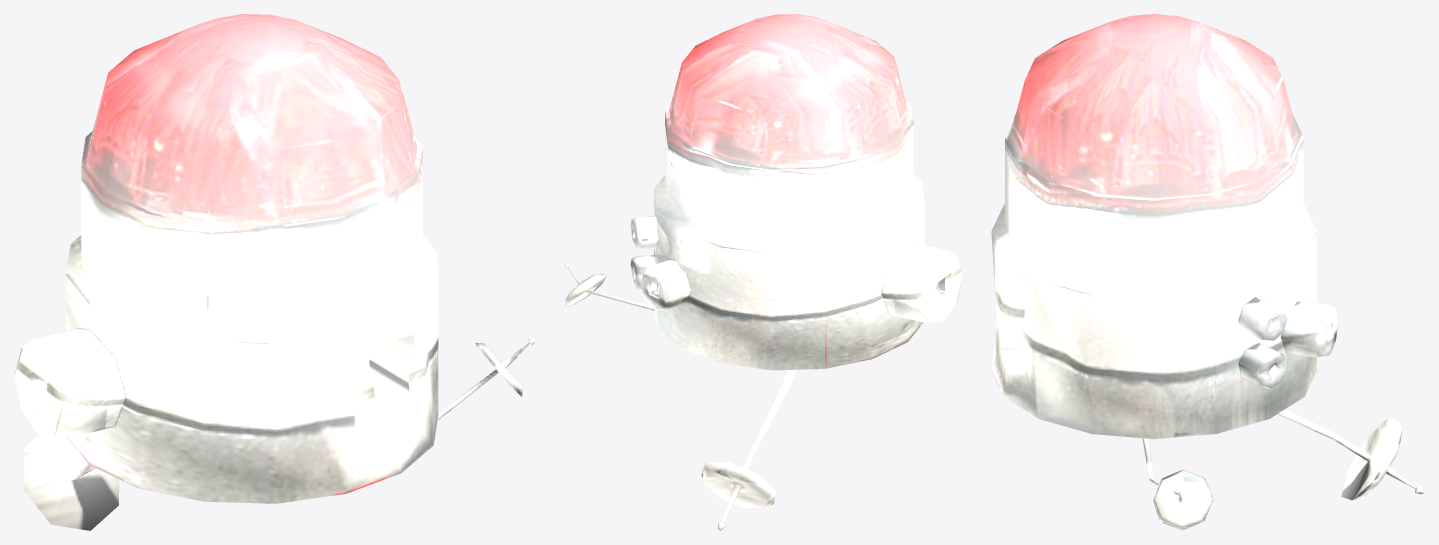
The model's file is beacon.glb.
3 renders of one model, left to right at view 1: azimuth 30°, elevation 25°; view 2: azimuth 150°, elevation 25°; view 3: azimuth 270°, elevation 25°, orthographic. The views are drawn at different scales.
Parts seen in each view (by area): view 1: Beacon; view 2: Beacon; view 3: Beacon.
Part boxes in pixels (x1,y1,x2,y2): Beacon: (14,14,535,530); Beacon: (564,14,962,530); Beacon: (991,14,1424,530).
Bounding box in the file's own units: 3.13 × 3.33 × 2.66.
